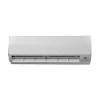ac: (2, 31, 96, 68)
